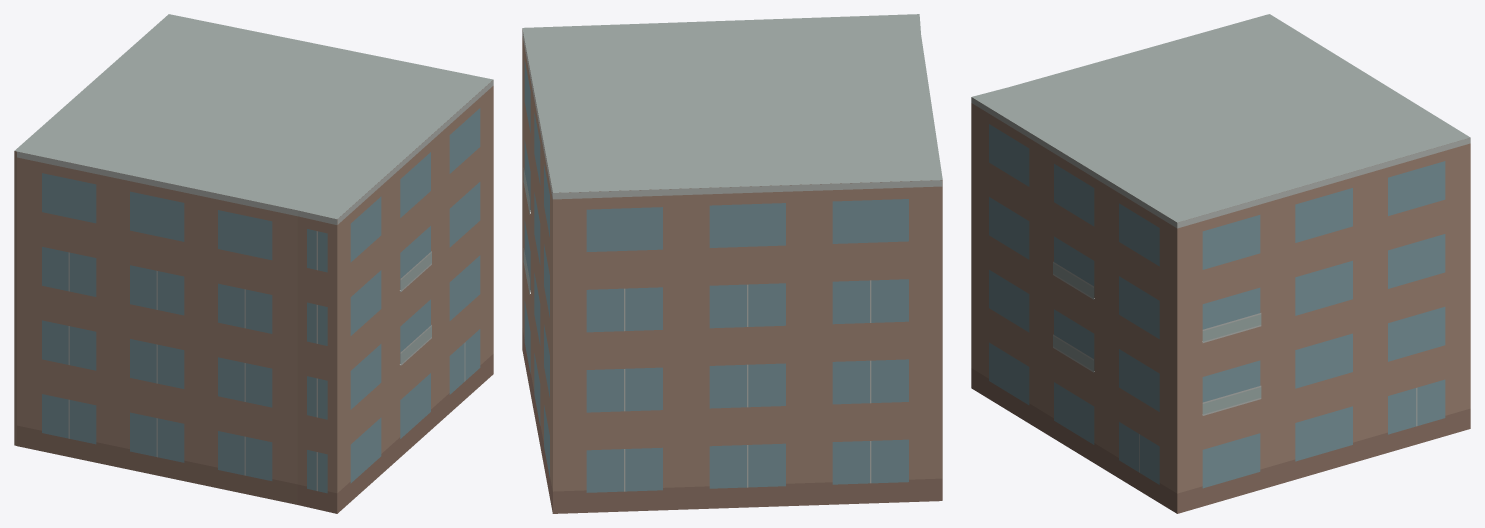
The model's file is survey-upis-32496450.glb.
3 views of the same model, side by side, from view 1: azimuth 30°, elevation 25°; view 2: azimuth 150°, elevation 25°; view 3: azimuth 270°, elevation 25° (orthographic). The views are drawn at different scales.
Visible parts, largest first — view 1: survey-upis-32496450.tmp; view 2: survey-upis-32496450.tmp; view 3: survey-upis-32496450.tmp.
Part boxes in pixels (x1,y1,x2,y2): survey-upis-32496450.tmp: [14, 14, 493, 513]; survey-upis-32496450.tmp: [522, 14, 942, 513]; survey-upis-32496450.tmp: [971, 14, 1470, 513].
Bounding box in the file's own units: 18.59 × 12.1 × 18.81.
